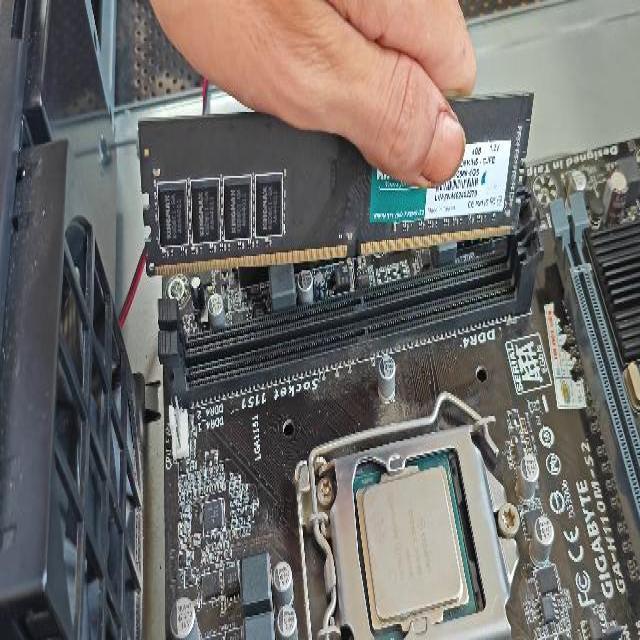CPU: (356, 464, 470, 628)
Mainboard: (163, 137, 640, 640)
RAM: (140, 92, 536, 278)
